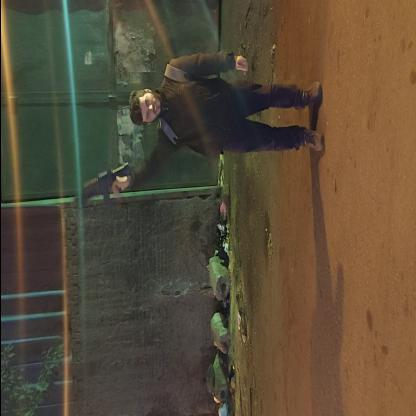long weapon: (66, 152, 134, 216)
